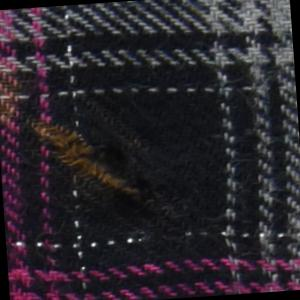Damage: (21, 84, 186, 250)
Oil Stain: (1, 56, 144, 210)
